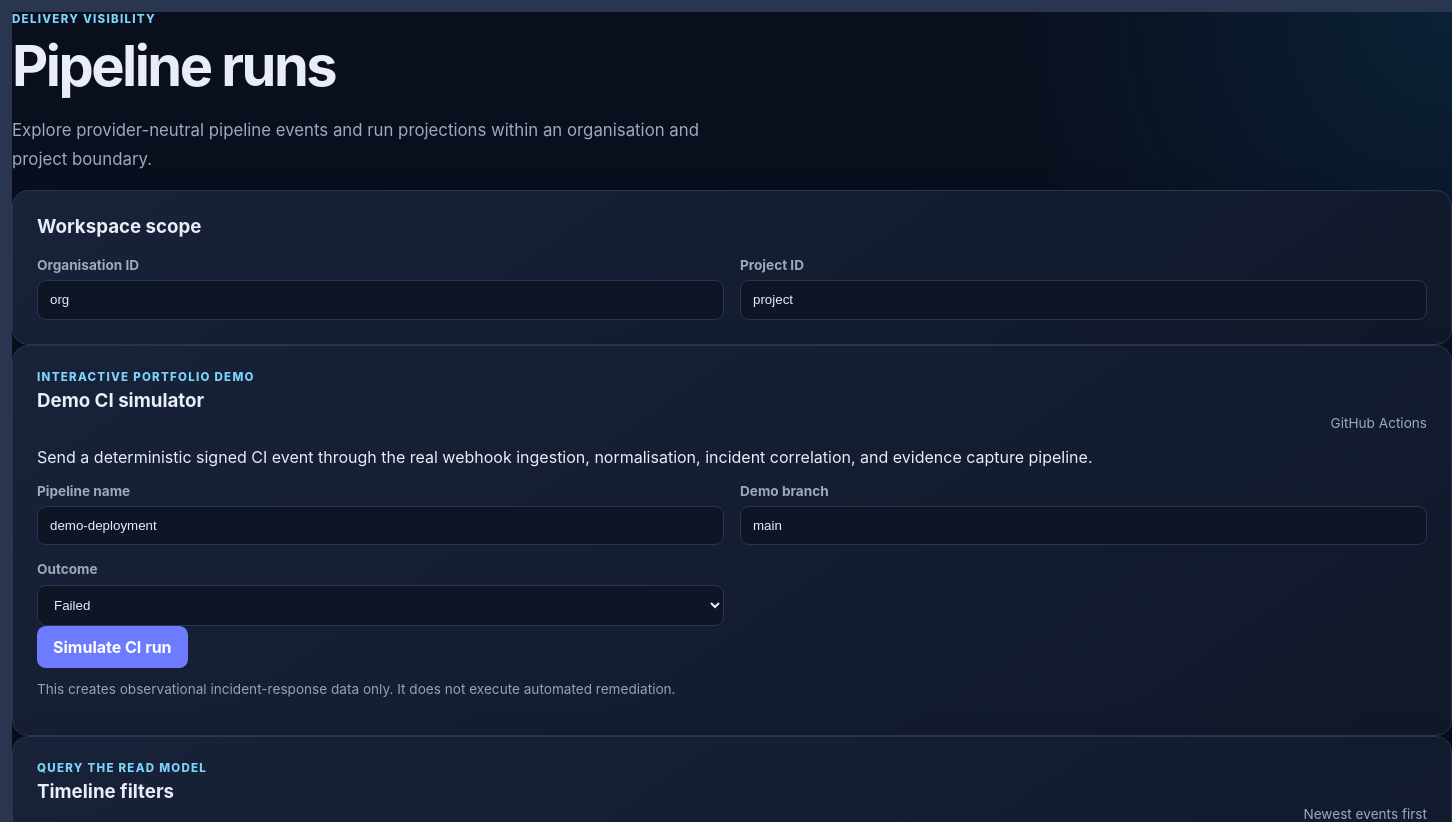
Test: Pipeline browser CI simulator › shows a bounded failure state
The image size is (1452, 822).
Click the button "Simulate CI run".
click(112, 647)  # box left=37, top=626, right=188, bottom=668
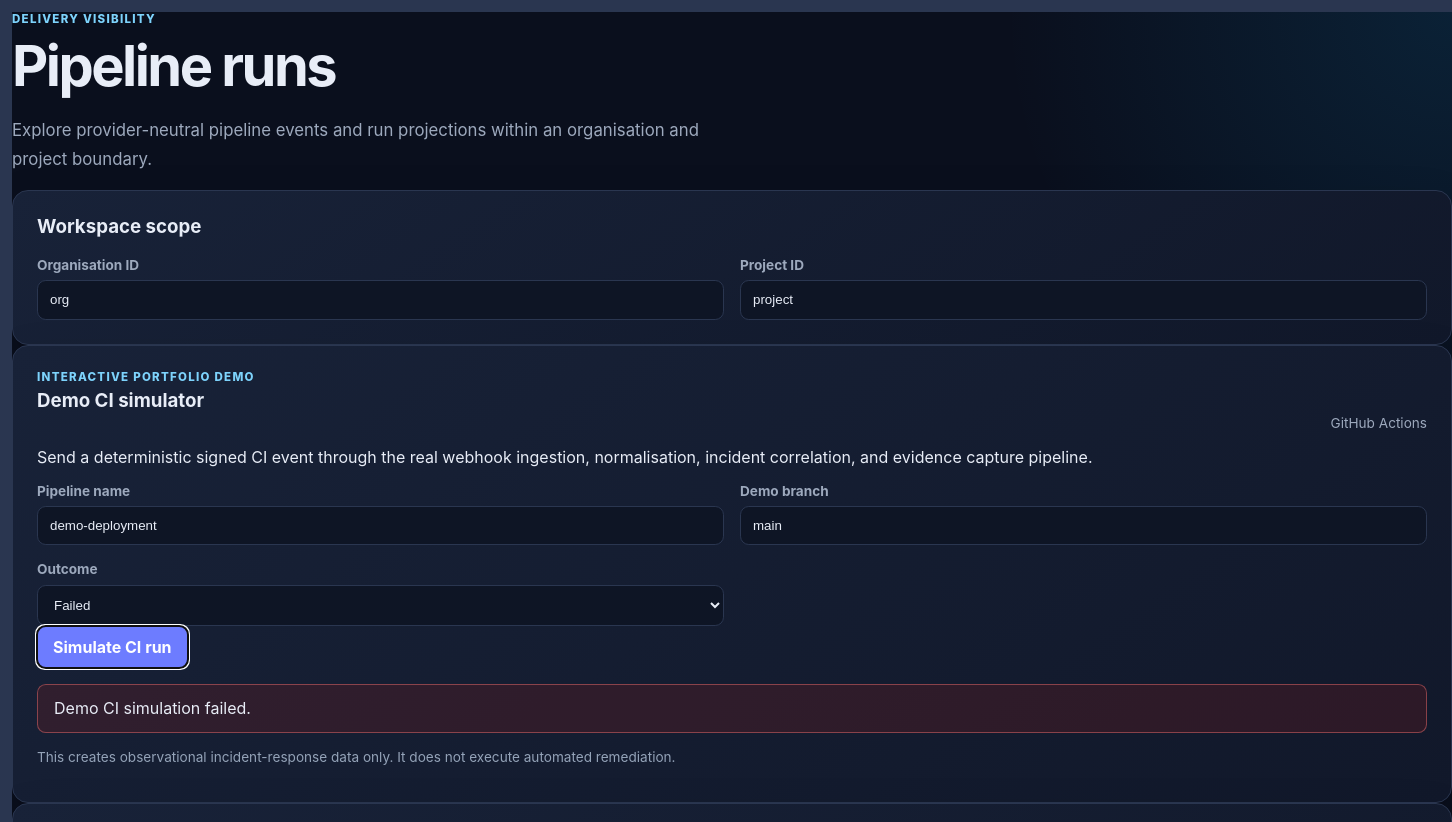
Result: the message reads "Demo CI simulation failed." at left=54, top=698, right=251, bottom=718
